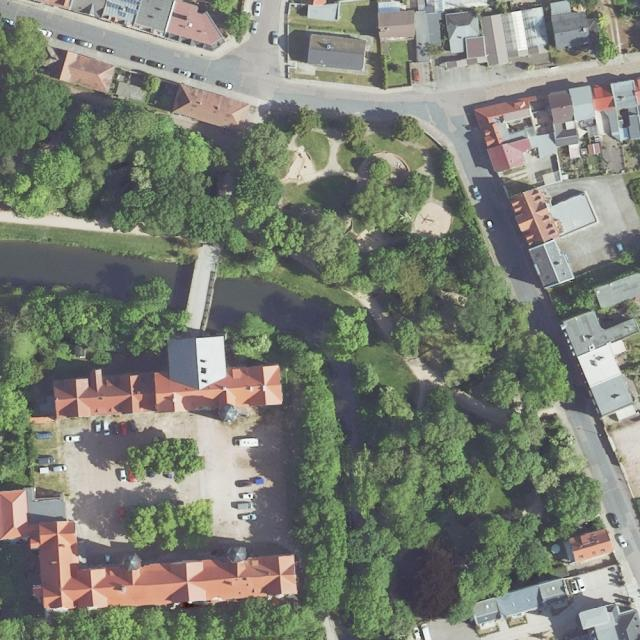PV: (107, 1, 137, 17), (121, 0, 139, 6)
